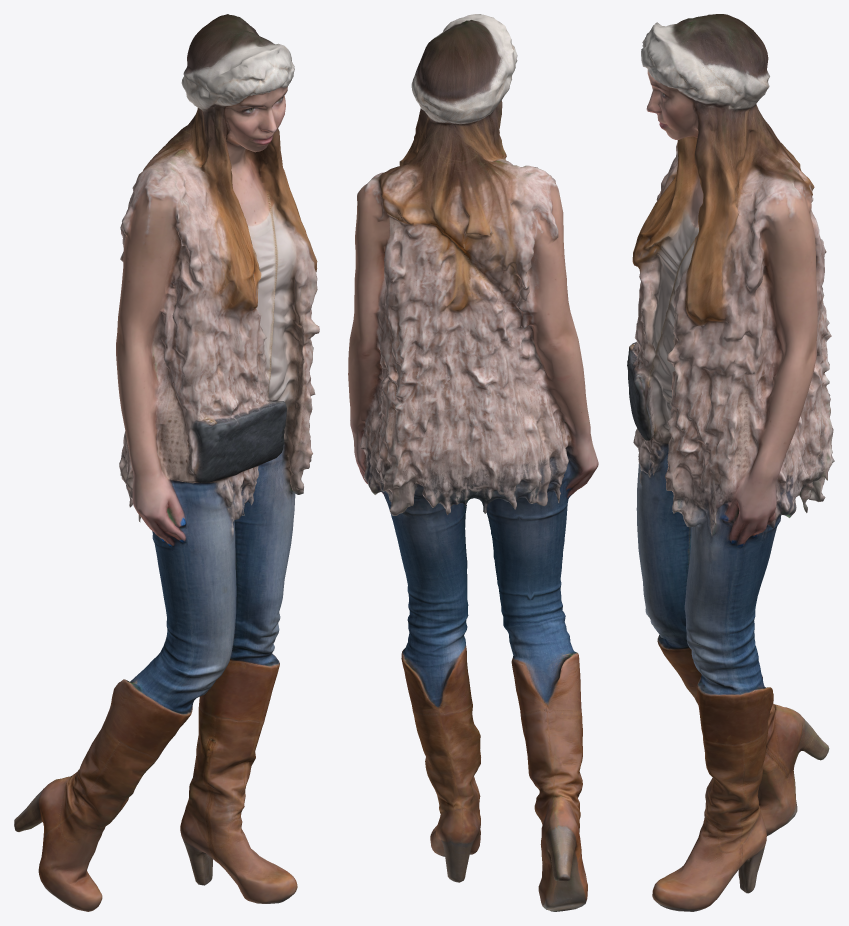
Rendered from Scan-13.OBJ.
The picture shows the model from 3 angles, left to right: view 1: azimuth 30°, elevation 25°; view 2: azimuth 150°, elevation 25°; view 3: azimuth 270°, elevation 25°; orthographic projection. The views are drawn at different scales.
Parts seen in each view (by area): view 1: defaultMat; view 2: defaultMat; view 3: defaultMat.
Part boxes in pixels (x1,y1,x2,y2): defaultMat: (14, 14, 319, 911); defaultMat: (348, 14, 598, 911); defaultMat: (627, 14, 834, 911).
Size of the model in its own units: 0.5398 by 1.77 by 0.3778.
